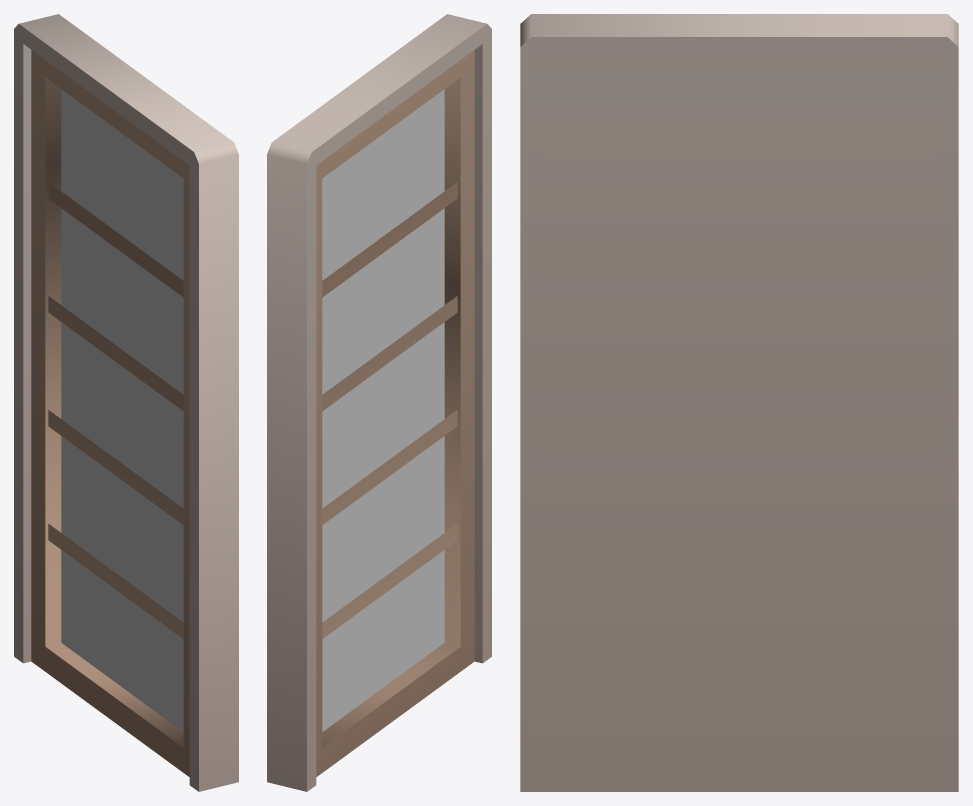
Rendered from door-shoji-standard-horizontal (%wall).glb.
The picture shows the model from 3 angles, left to right: view 1: azimuth 30°, elevation 25°; view 2: azimuth 150°, elevation 25°; view 3: azimuth 270°, elevation 25°; orthographic projection. The views are drawn at different scales.
Visible parts, largest first — view 1: door-shoji-standard-horizontal (%wall); view 2: door-shoji-standard-horizontal (%wall); view 3: door-shoji-standard-horizontal (%wall).
Part boxes in pixels (left/top/right/bottom): door-shoji-standard-horizontal (%wall): left=14, top=14, right=238, bottom=791; door-shoji-standard-horizontal (%wall): left=267, top=14, right=491, bottom=791; door-shoji-standard-horizontal (%wall): left=520, top=14, right=958, bottom=791.
Bounding box in the file's own units: 0.125 × 1.9 × 1.
